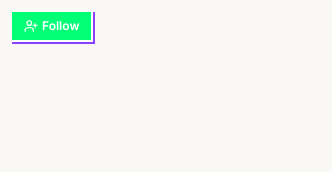
Test: CuratedFollowButton accessibility › activates via Enter and Space (native button keyboard support)
Press Enter in the button, box [12, 12, 92, 40]
Click the button.
click(52, 26)  # box [12, 12, 92, 40]
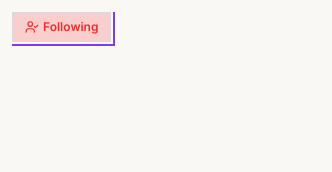
Expected: the button is pressed
Press Space in the button, box [12, 12, 112, 42]
Click the button.
click(62, 27)  # box [12, 12, 112, 42]
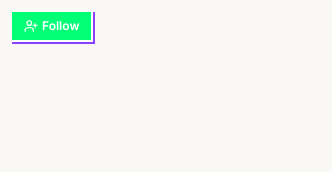
Expected: the button is not pressed, [12, 12, 92, 40]
